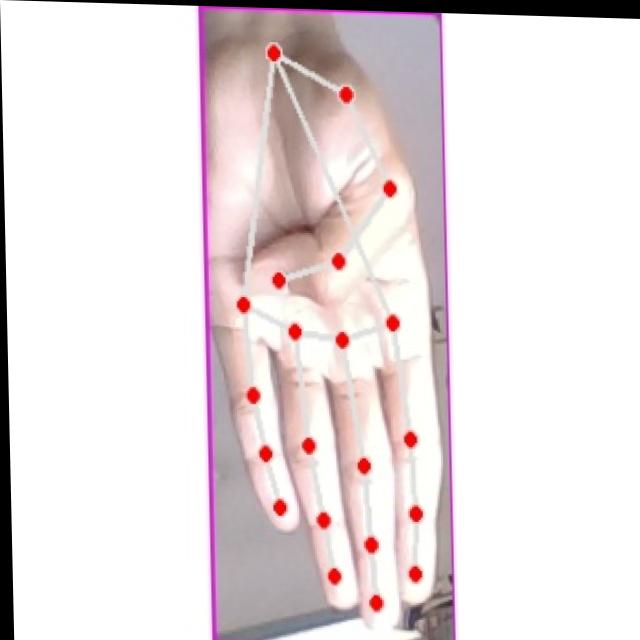B: (211, 25, 449, 628)
